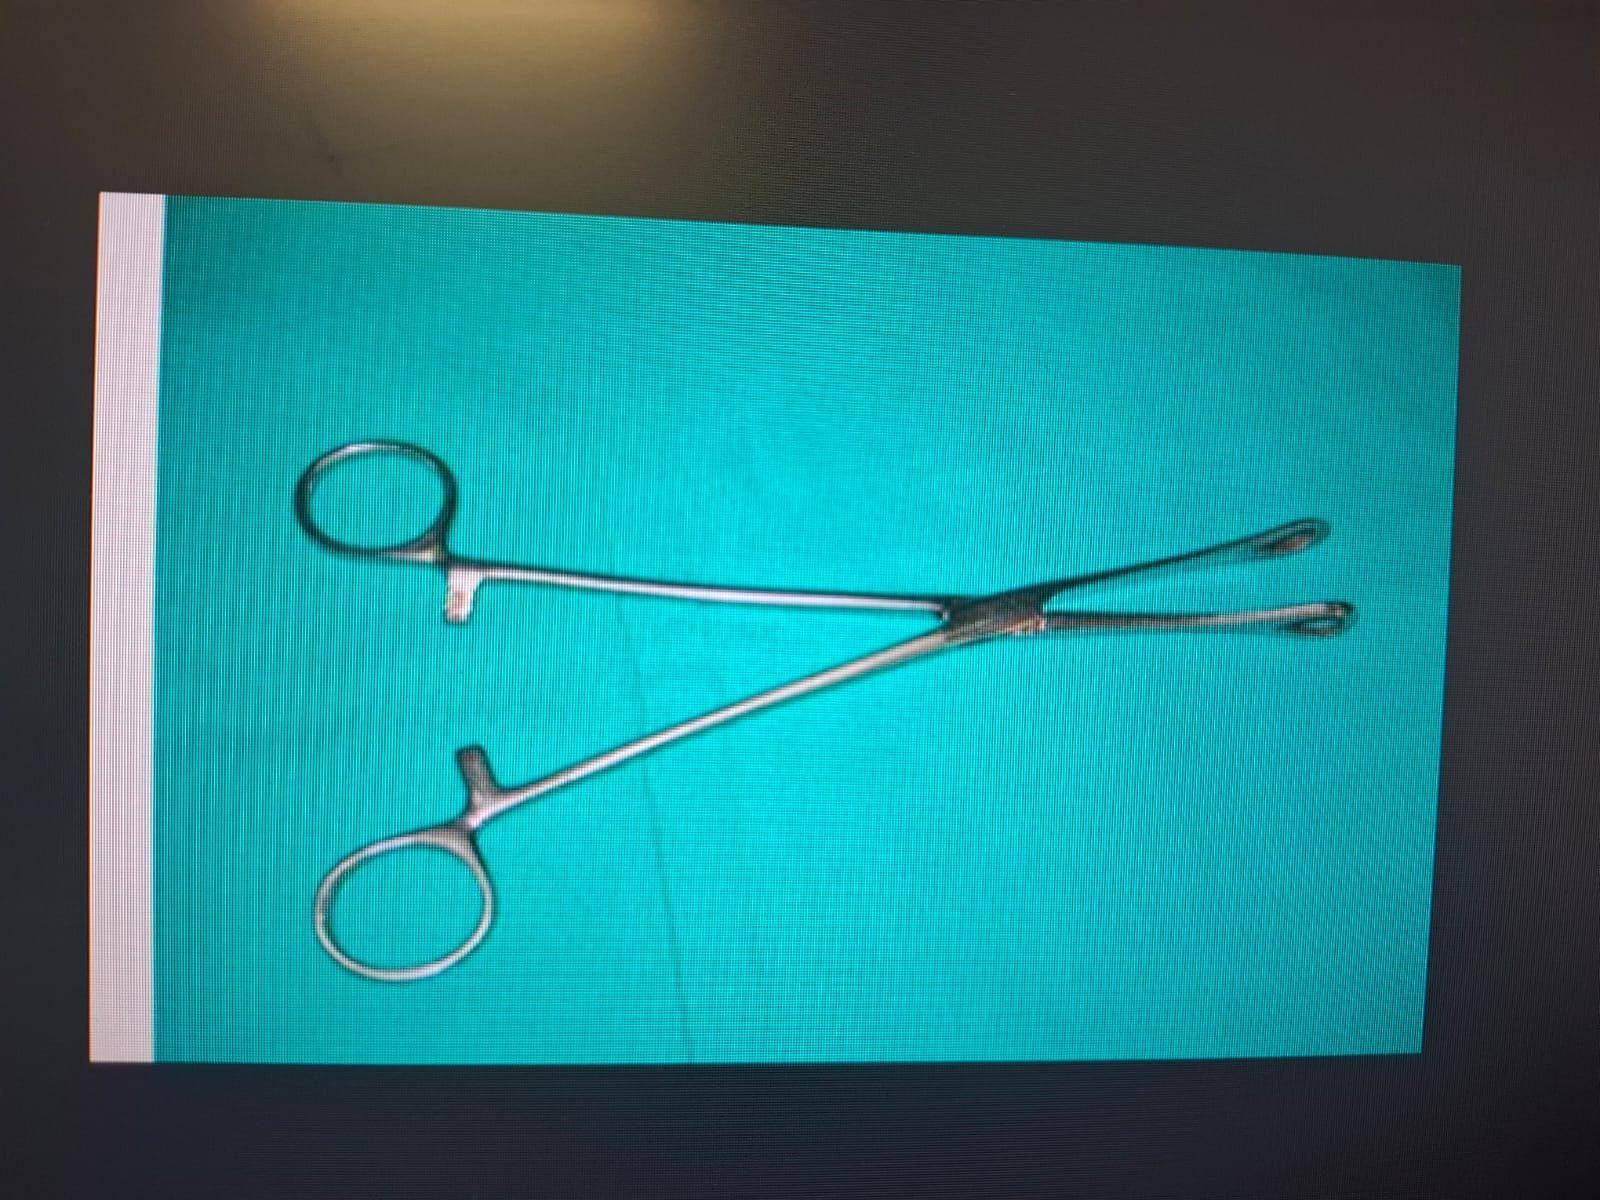Sponge Holding Forceps: (280, 413, 1369, 988)
